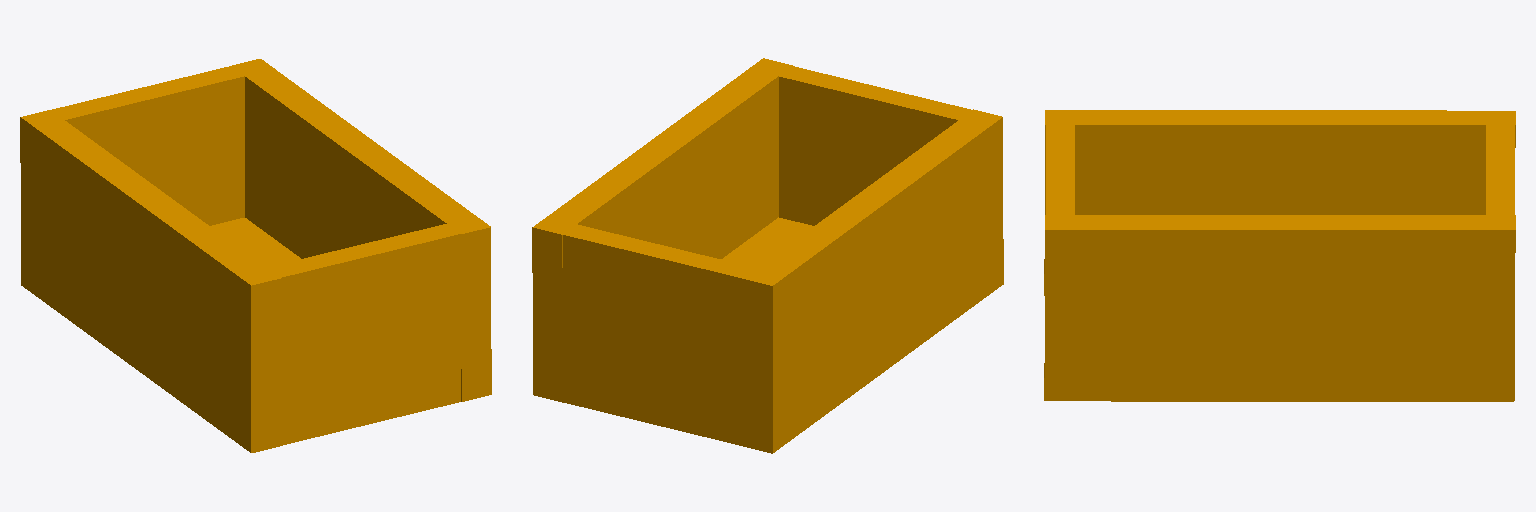
robot.urdf — box.urdf:
<?xml version="0.0" ?>
<robot name="box.urdf">
  <link name="box">

    <inertial>
      <origin rpy="0 0 0" xyz="0 0 0.0"/>
      <mass value="0.01"/>
      <inertia ixx="0.0001" iyy="0.0001" izz="0.0001" ixy="0" ixz="0" iyz="0"/>
    </inertial>

    <visual>
      <origin rpy="1.57 0 0" xyz="0 0 0"/>
      <geometry>
        <mesh filename="box.obj"/>
      </geometry>
    </visual>
    
    <collision>
      <origin rpy="1.57 0 0" xyz="0 0 0.0"/>
      <geometry>
  	    <mesh filename="box.obj"/>
      </geometry>
    </collision>
  </link>

</robot>

--- What the picture shows (computed from the rendered views, not written in the file) ---
The picture shows the robot from 3 angles, left to right: view 1: azimuth 30°, elevation 25°; view 2: azimuth 150°, elevation 25°; view 3: azimuth 270°, elevation 25°; orthographic projection.
Robot: box.urdf — 1 links, 0 joints (none); root link box; default pose: every joint at zero.
Links seen in each view (by area): view 1: box; view 2: box; view 3: box.
Link boxes in pixels (x1=…): box: x1=20, y1=59, x2=491, y2=452; box: x1=532, y1=58, x2=1003, y2=453; box: x1=1044, y1=110, x2=1515, y2=401.
Size in the robot's own frame: 2.01 by 3.34 by 1.35 metres.
Meshes: 1 distinct files referenced, 1 mesh visuals loaded (1 OBJ).